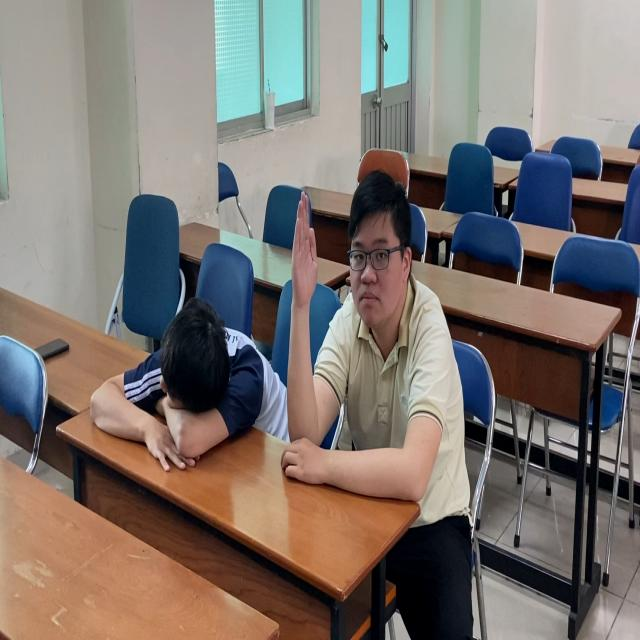raise_hand: (289, 171, 469, 502)
sleep: (93, 289, 283, 484)
